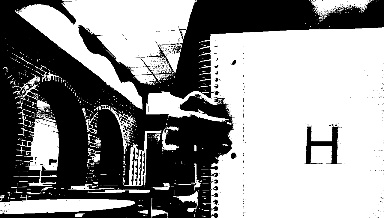H: (302, 122, 343, 165)
